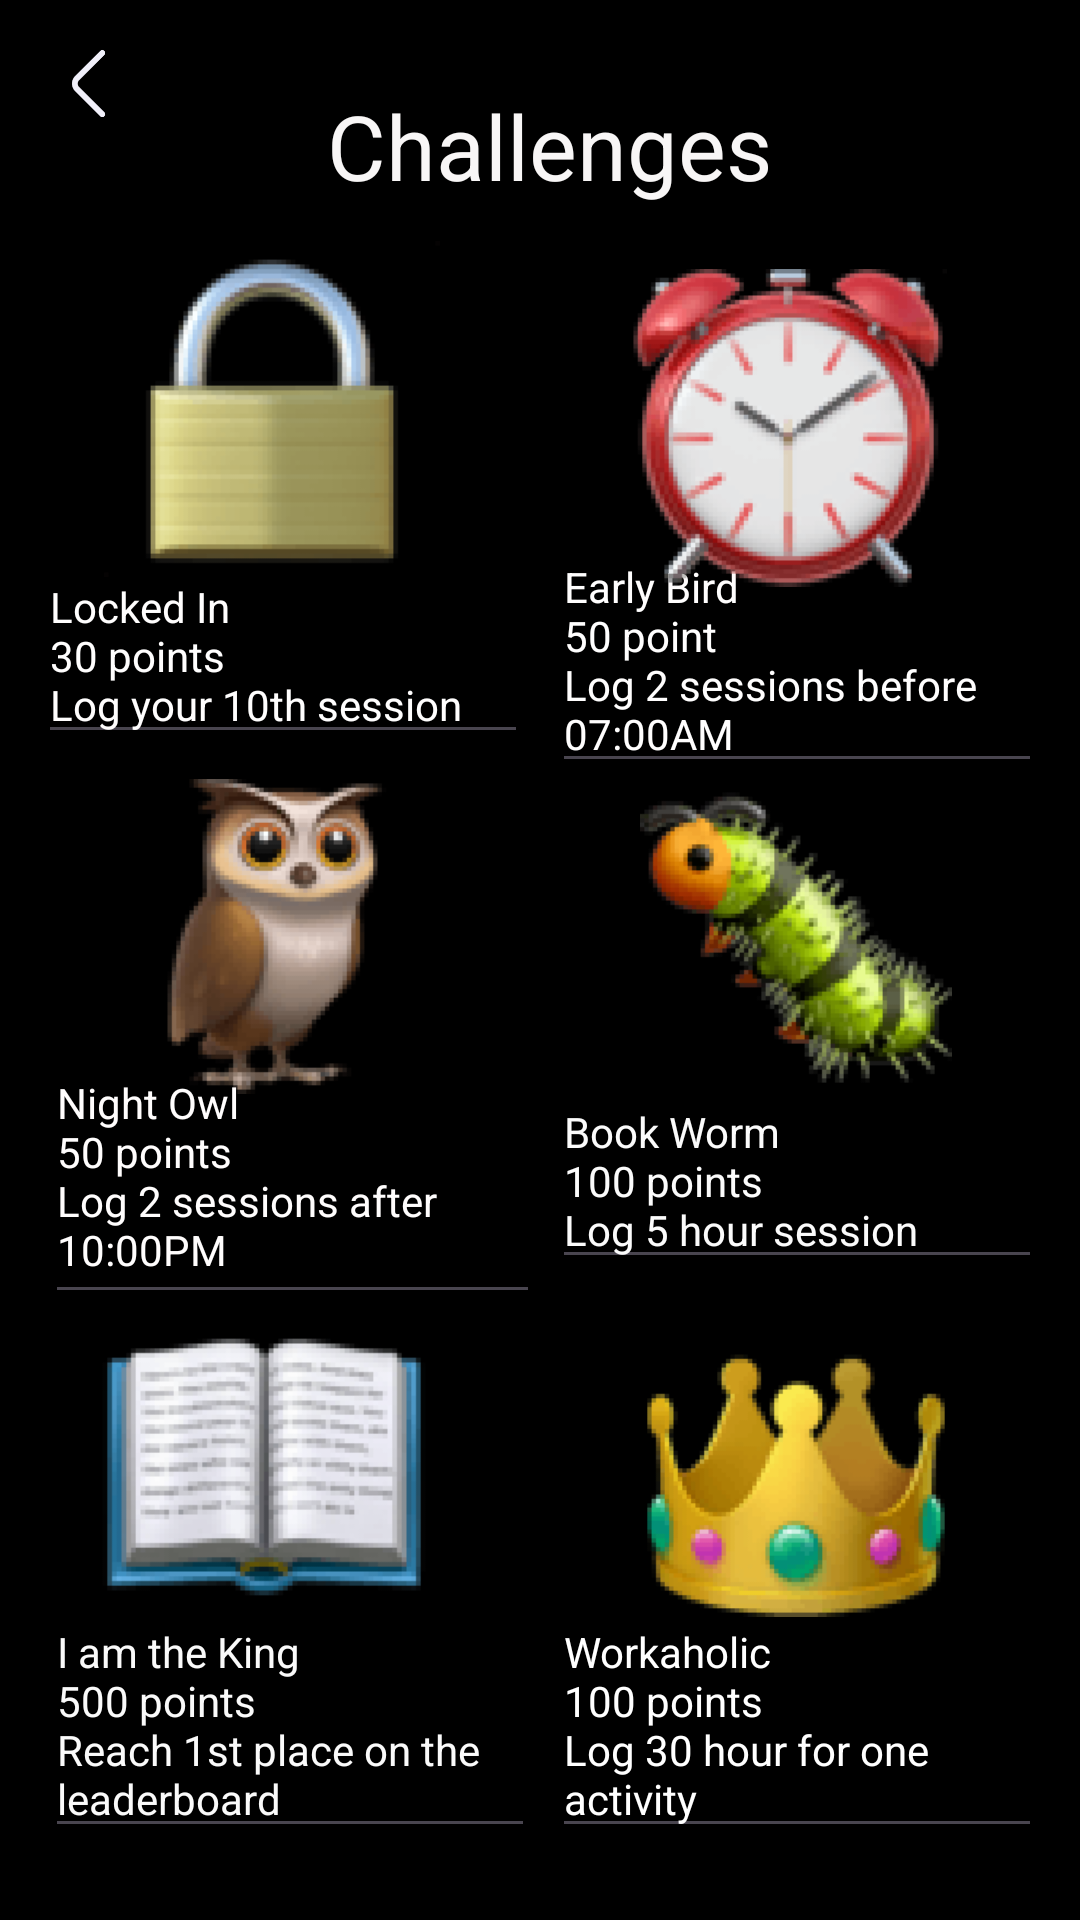

Named icons in this screenshot (1080px×1920px) and their centers, (x,y):
alarm clock: (774,428)
back: (88,83)
bug: (796,939)
crown: (796,1487)
open book: (264,1488)
